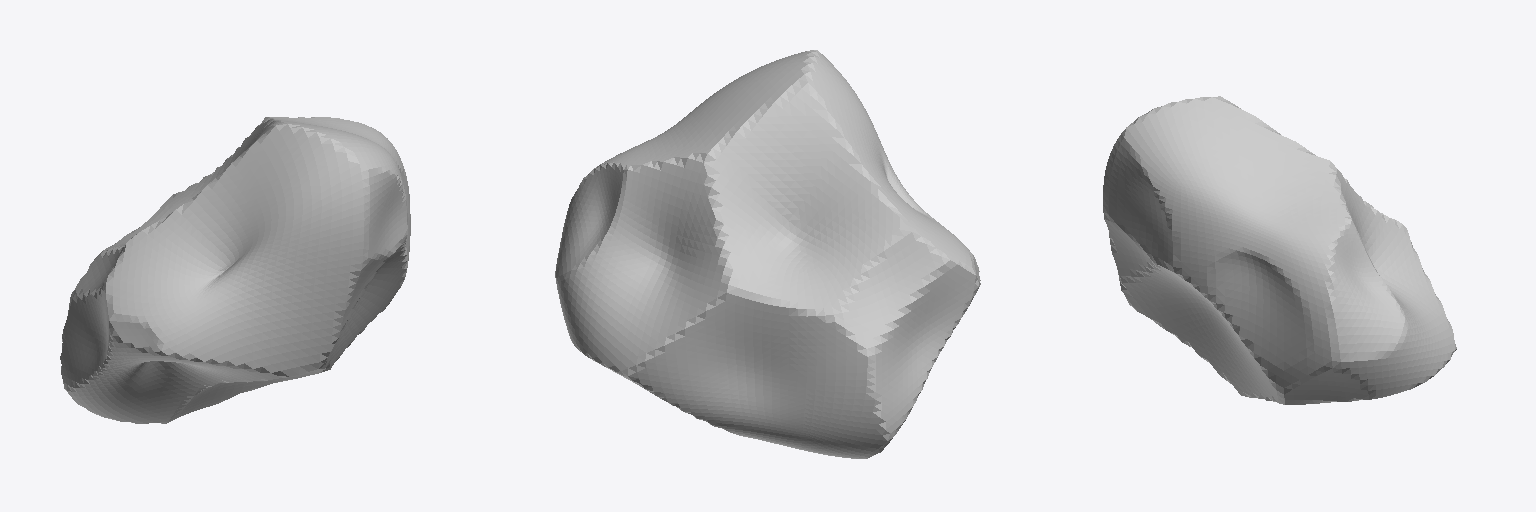
Rendered from Rock.obj.
The picture shows the model from 3 angles: view 1: azimuth 30°, elevation 25°; view 2: azimuth 150°, elevation 25°; view 3: azimuth 270°, elevation 25°; orthographic projection.
Visible parts, largest first — view 1: Cube; view 2: Cube; view 3: Cube.
Boxes of the visible parts, box(x1,y1,x2,y2) form: Cube: box(60, 117, 410, 423); Cube: box(555, 50, 980, 458); Cube: box(1103, 96, 1456, 404).
Size of the model in its own units: 2.56 by 2.19 by 2.21.